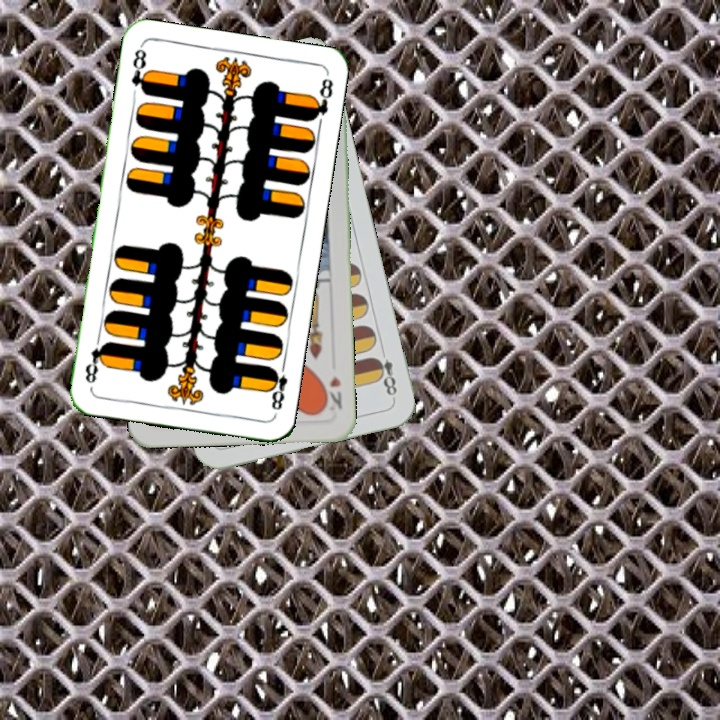E8: (370, 353, 400, 402), (264, 358, 290, 413), (127, 43, 152, 98)
HK: (319, 372, 344, 412)
